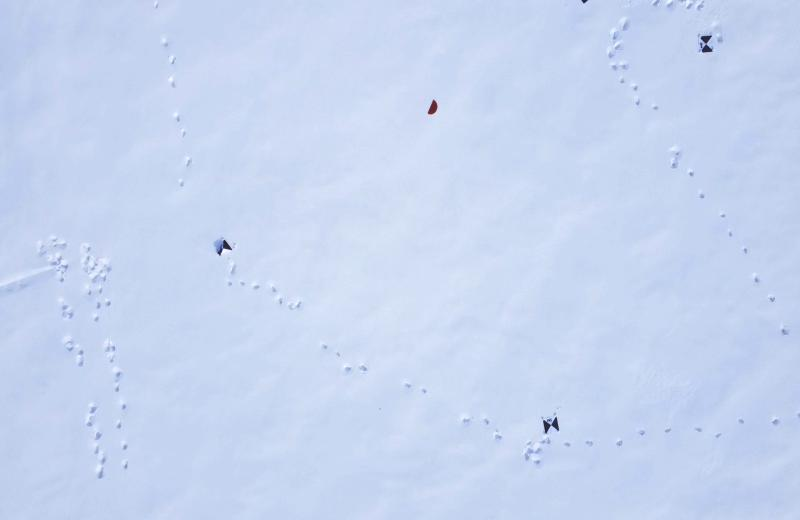Semi Circle: (427, 99, 438, 116)
Square: (579, 0, 590, 5)
